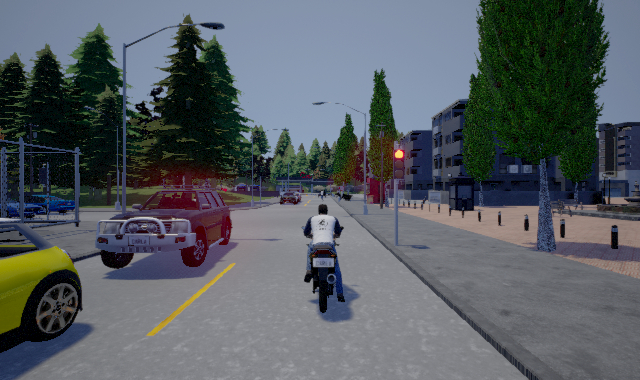traffic_light: (392, 147, 405, 178)
vehicle: (1, 199, 83, 353), (95, 185, 233, 269), (300, 204, 347, 315), (20, 192, 76, 214), (280, 191, 302, 204)
